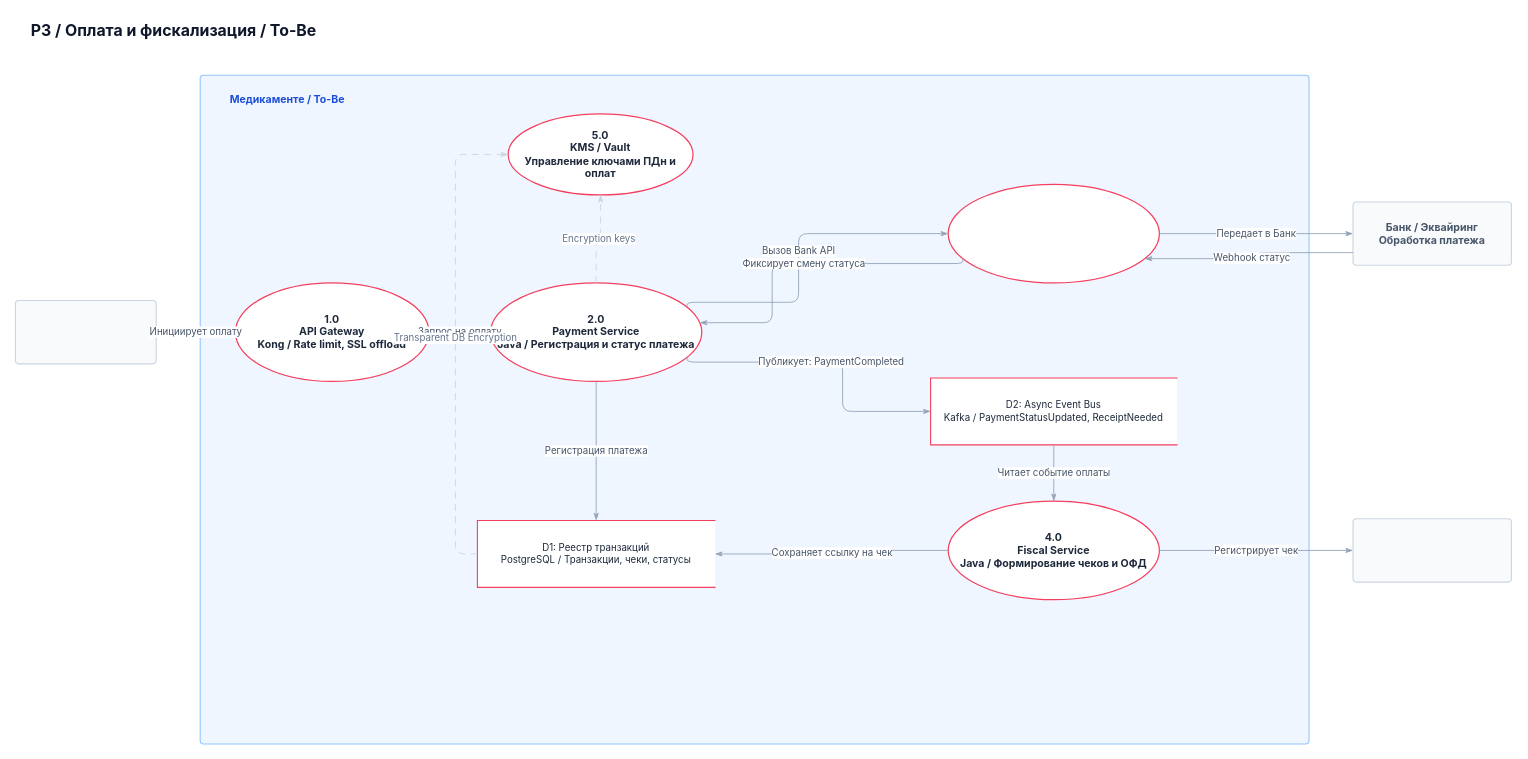
This 1528x759 diagram has some shape labels left out. The box of each missing label's shape, as (x1, y1, x2, y2) in pixels:
3.0 PGW Adapter Java / Интеграция с эквайрингом: (947, 183, 1160, 283)
ОФД / Налоговая Фискализация чеков: (1352, 518, 1512, 582)
Пациент Инициирует оплату: (14, 300, 156, 364)
